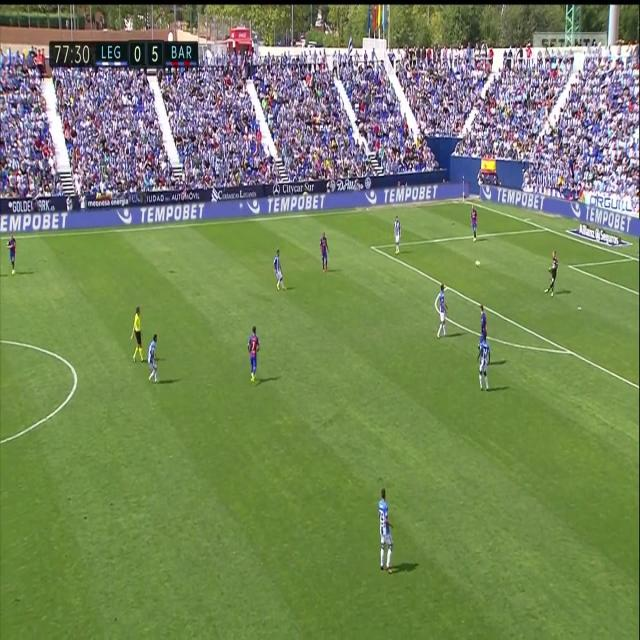Ball: (473, 256, 483, 272)
Goalkeeper: (540, 249, 560, 300)
Player: (378, 483, 395, 578), (245, 324, 262, 387), (146, 332, 160, 391), (436, 284, 448, 342), (478, 340, 491, 391), (272, 247, 286, 290), (318, 229, 331, 275), (6, 232, 18, 277), (477, 302, 488, 350), (392, 211, 403, 256), (469, 200, 479, 245)
Referee: (130, 304, 146, 368)
